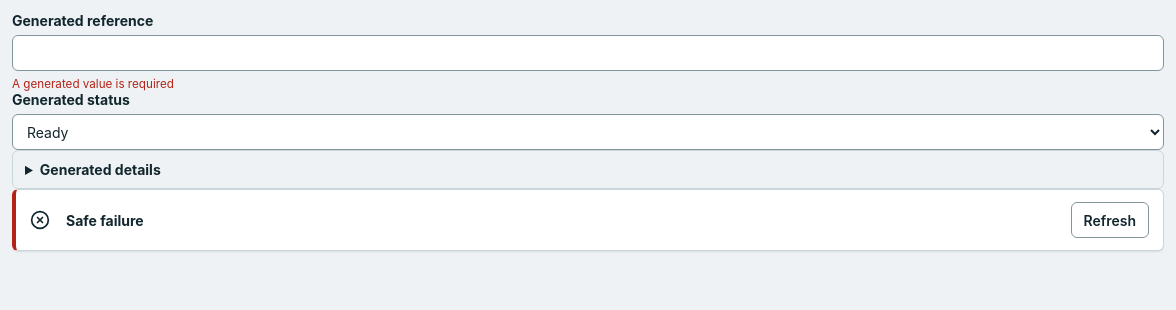
Scenario: accessible primitives › provides native names, validation, selection, disclosure, and status semantics
Expected: the dropdown labelled "Generated status" is shown, [12, 114, 1164, 150]
Step 1. Click the heading "Generated details" → (100, 170), box [40, 161, 161, 178]
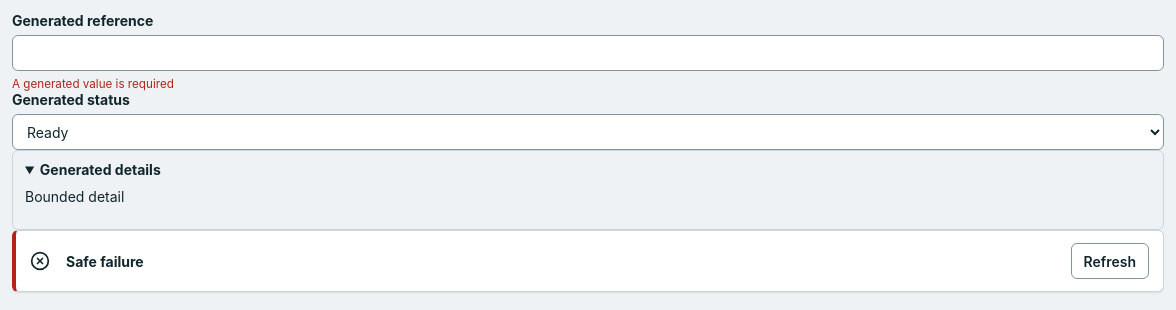
Expected: the message reads "A generated value is required", [12, 77, 174, 91]
Expected: the text "Bounded detail" is shown, [25, 188, 124, 205]
